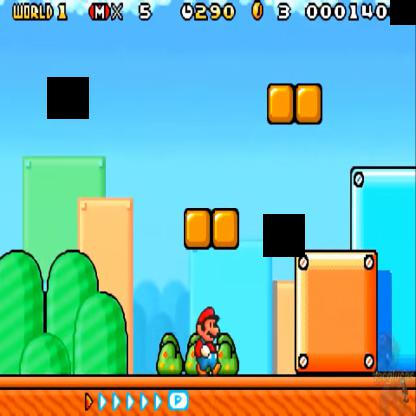Mario: (194, 305, 223, 376)
moneda: (249, 0, 265, 22)
